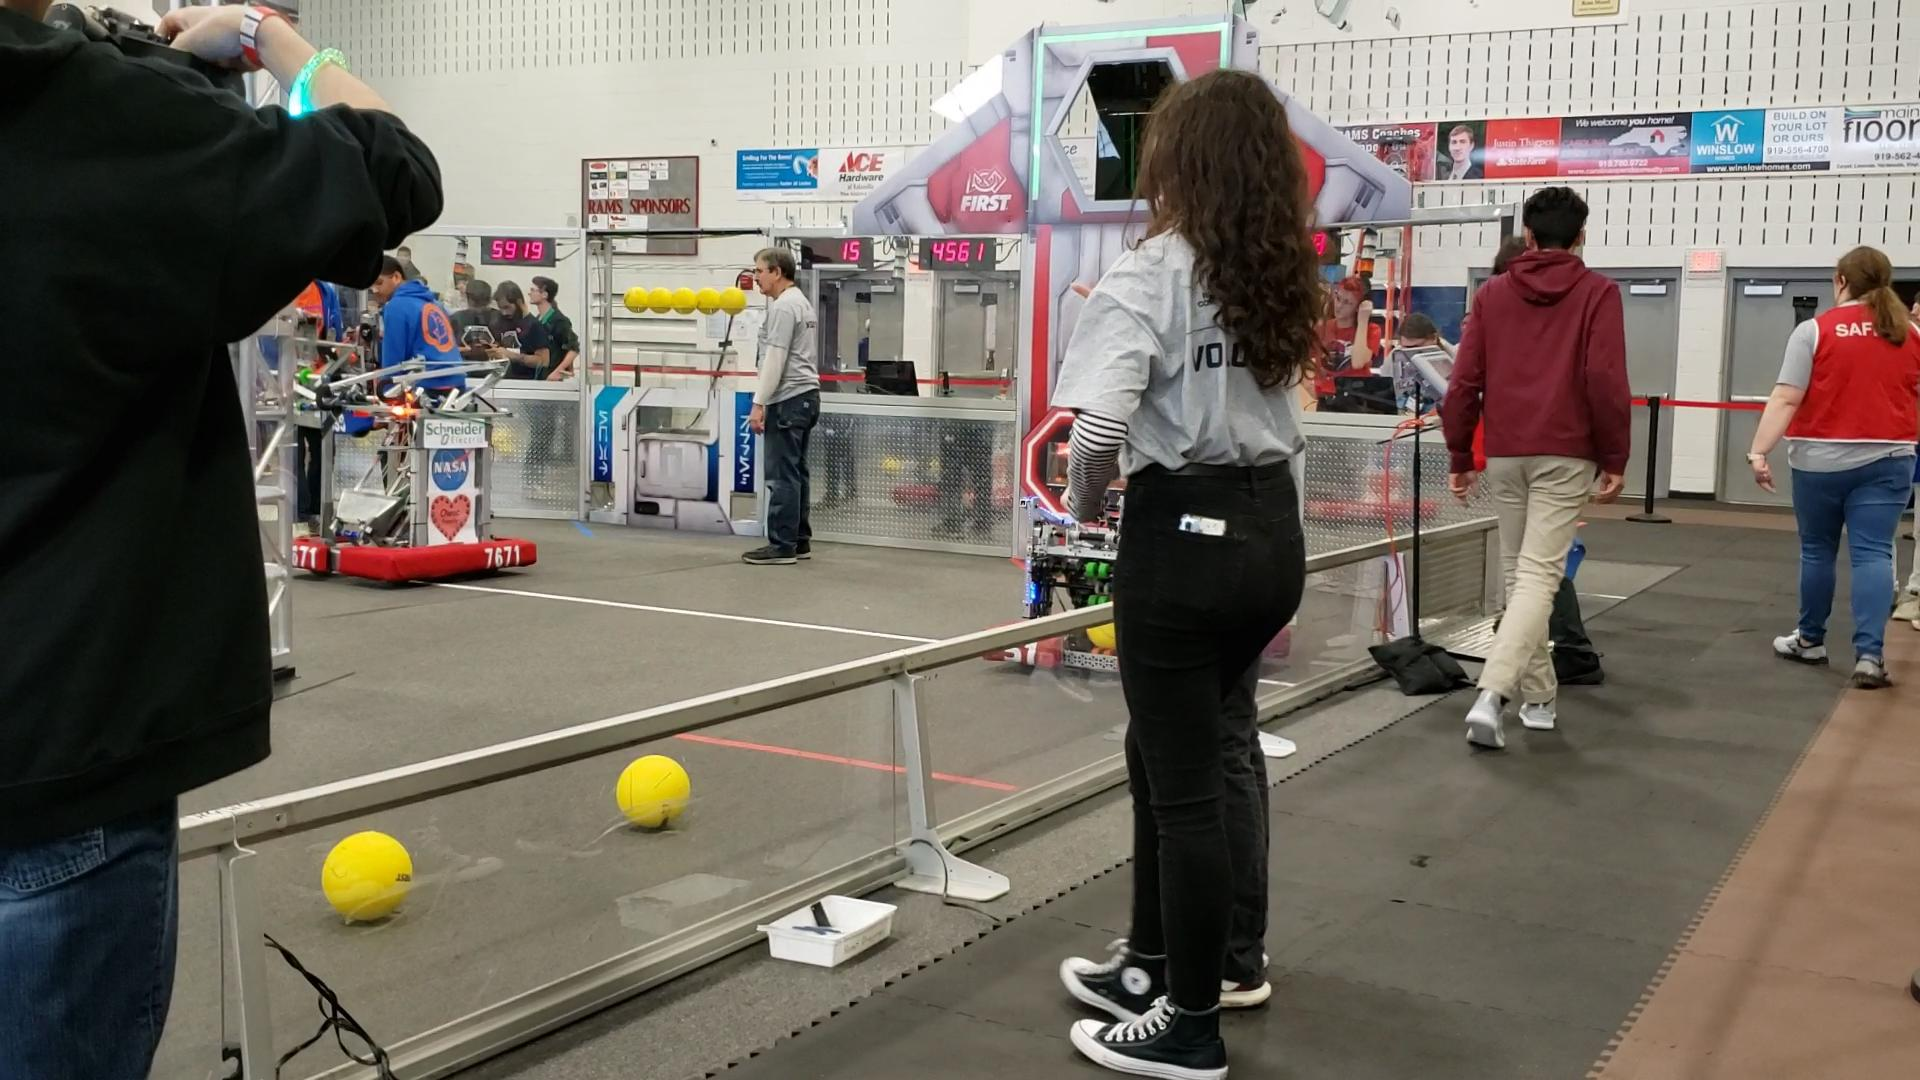robot: (294, 356, 538, 588), (978, 498, 1292, 676)
